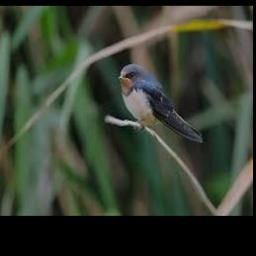Swallow: (120, 64, 206, 143)
